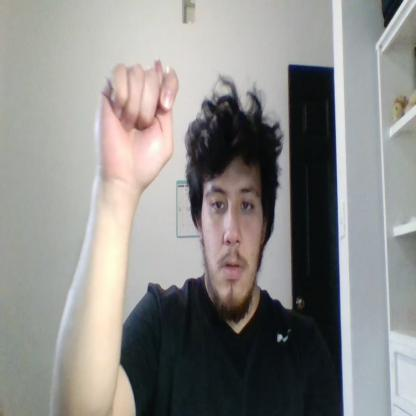T: (95, 58, 178, 187)
